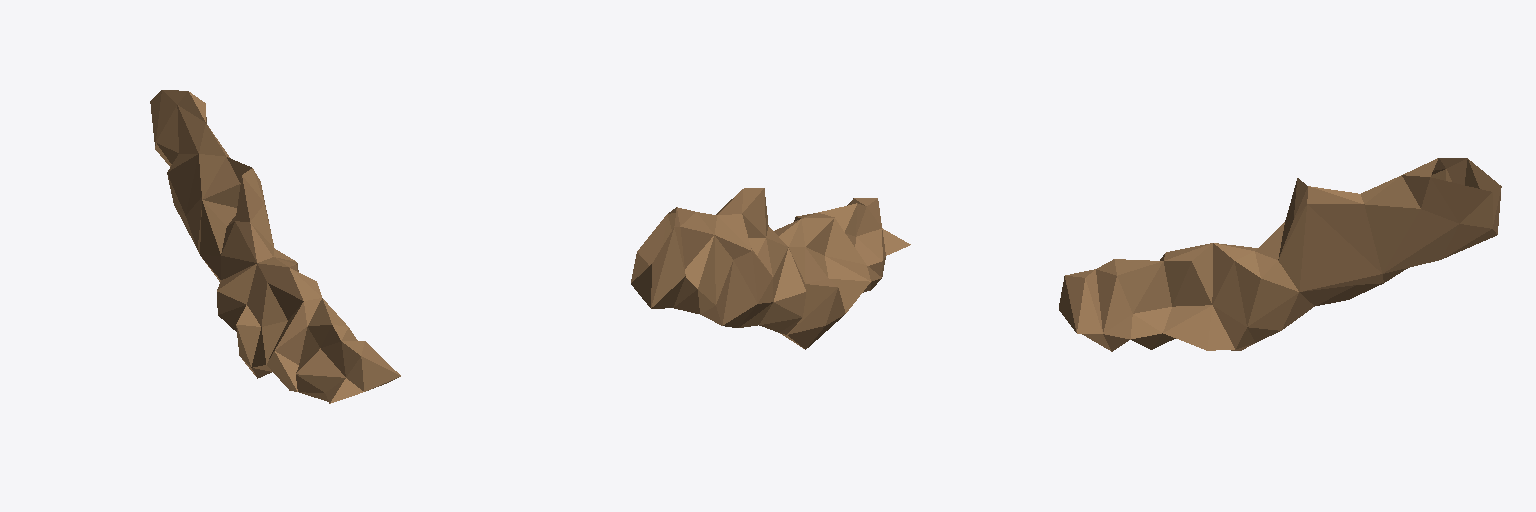
The model's file is fourth_Ventricle.obj.
3 renders of one model, left to right at view 1: azimuth 30°, elevation 25°; view 2: azimuth 150°, elevation 25°; view 3: azimuth 270°, elevation 25°, orthographic.
Parts seen in each view (by area): view 1: 4th_Ventricle_Ventricles.003; view 2: 4th_Ventricle_Ventricles.003; view 3: 4th_Ventricle_Ventricles.003.
Boxes of the visible parts, <box> form: 4th_Ventricle_Ventricles.003: <box>150,90,400,403</box>; 4th_Ventricle_Ventricles.003: <box>631,188,910,349</box>; 4th_Ventricle_Ventricles.003: <box>1059,158,1501,351</box>.
Size of the model in its own units: 6.78 by 14.51 by 28.01.